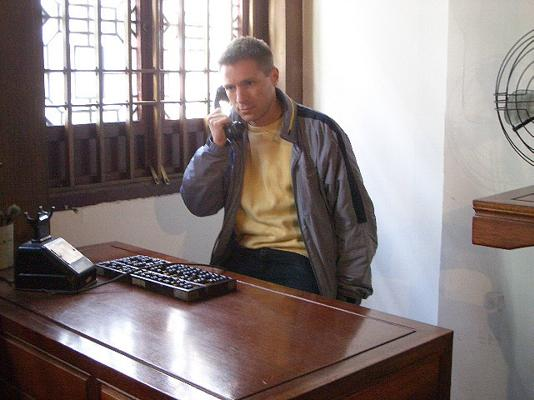person: (181, 36, 379, 305)
